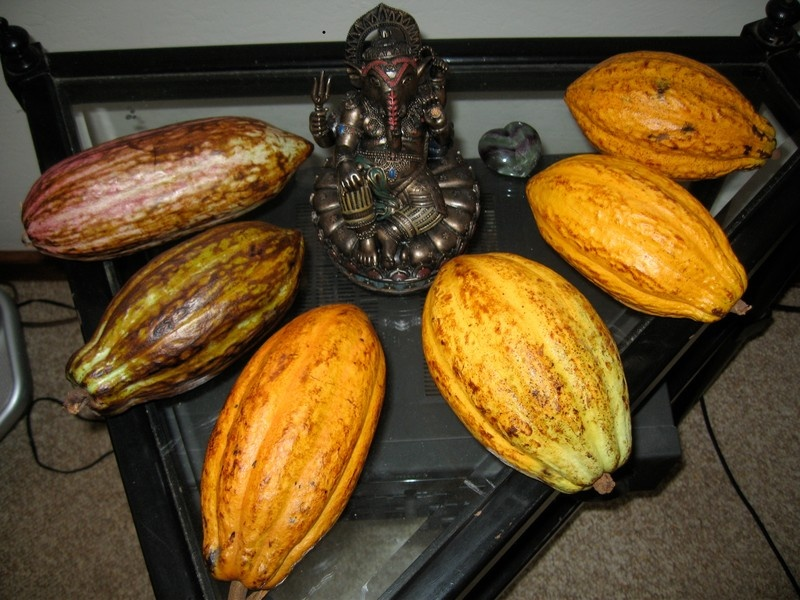Cacaopod: (197, 301, 395, 585), (425, 244, 638, 502), (62, 219, 307, 416), (20, 107, 314, 256), (521, 148, 759, 325), (562, 48, 780, 179)
